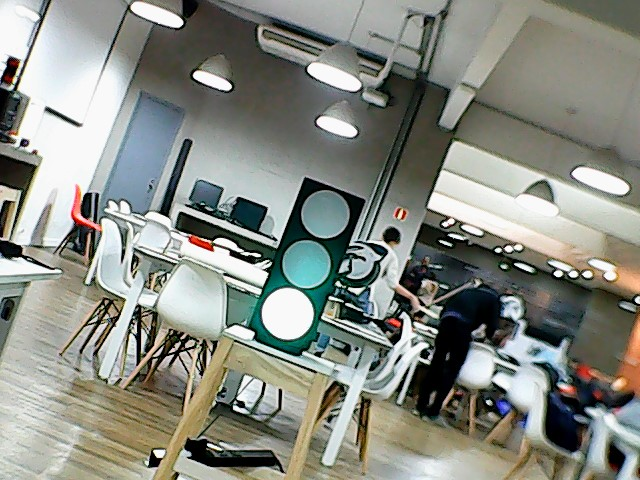verde: (241, 174, 369, 359)
